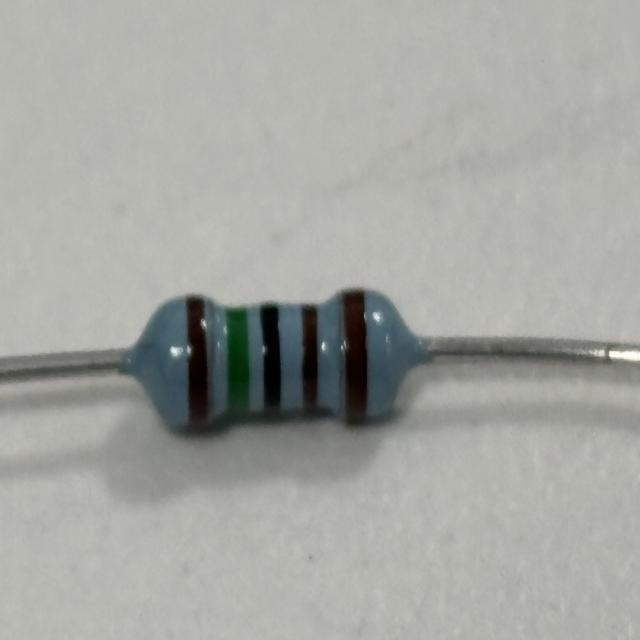resistor: (150, 284, 392, 434)
